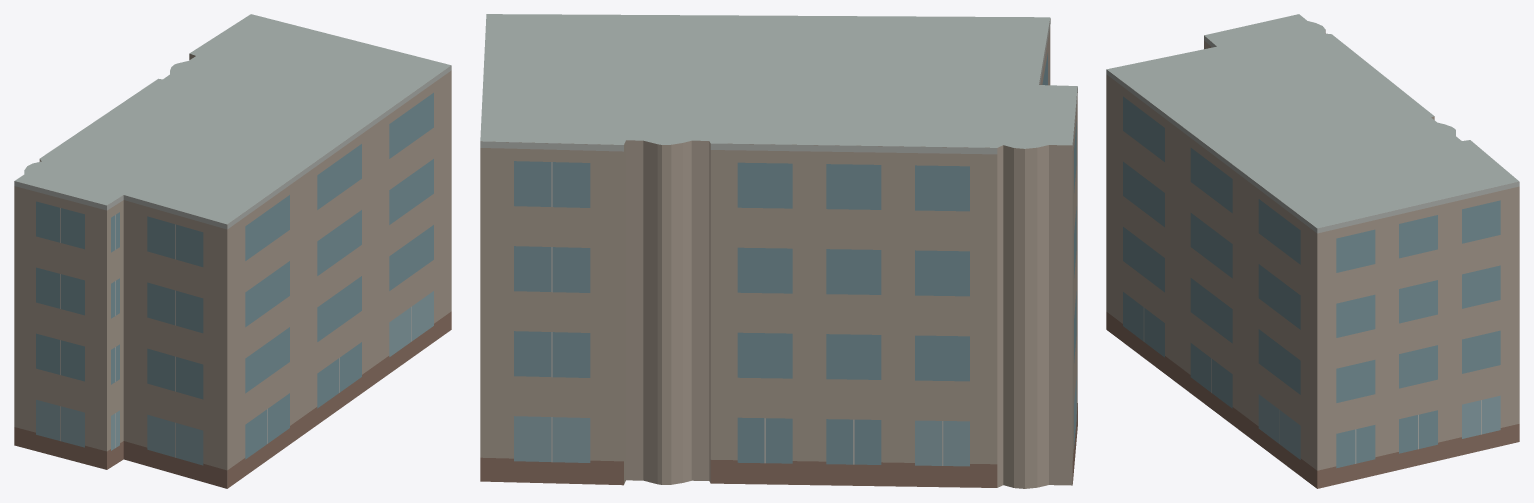
Rendered from survey-upis-32956697.glb.
The picture shows the model from 3 angles, left to right: view 1: azimuth 30°, elevation 25°; view 2: azimuth 150°, elevation 25°; view 3: azimuth 270°, elevation 25°; orthographic projection. The views are drawn at different scales.
Visible parts, largest first — view 1: survey-upis-32956697.tmp; view 2: survey-upis-32956697.tmp; view 3: survey-upis-32956697.tmp.
Part boxes in pixels (x1,y1,x2,y2): survey-upis-32956697.tmp: (14,14,451,488); survey-upis-32956697.tmp: (480,14,1077,488); survey-upis-32956697.tmp: (1106,14,1519,488).
Size of the model in its own units: 22.63 by 12.8 by 18.42.
